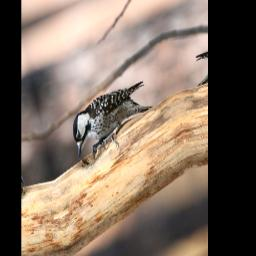Woodpecker: (68, 76, 157, 167)
